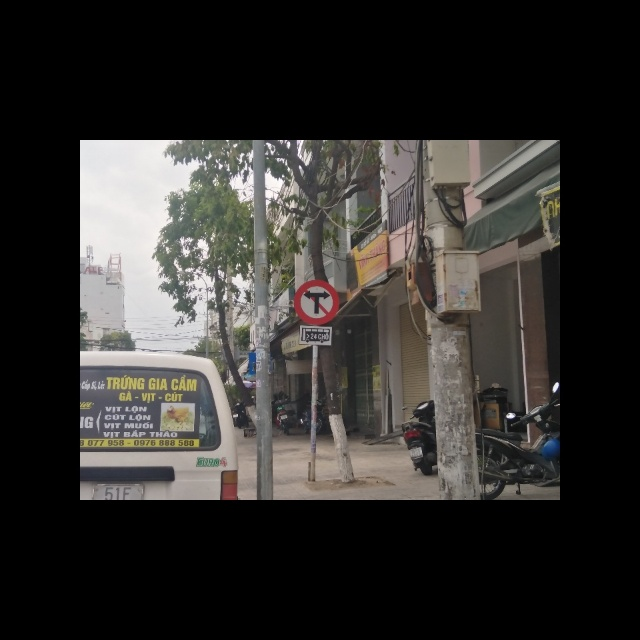Cấm rẽ trái và rẽ phải: (294, 279, 340, 326)
